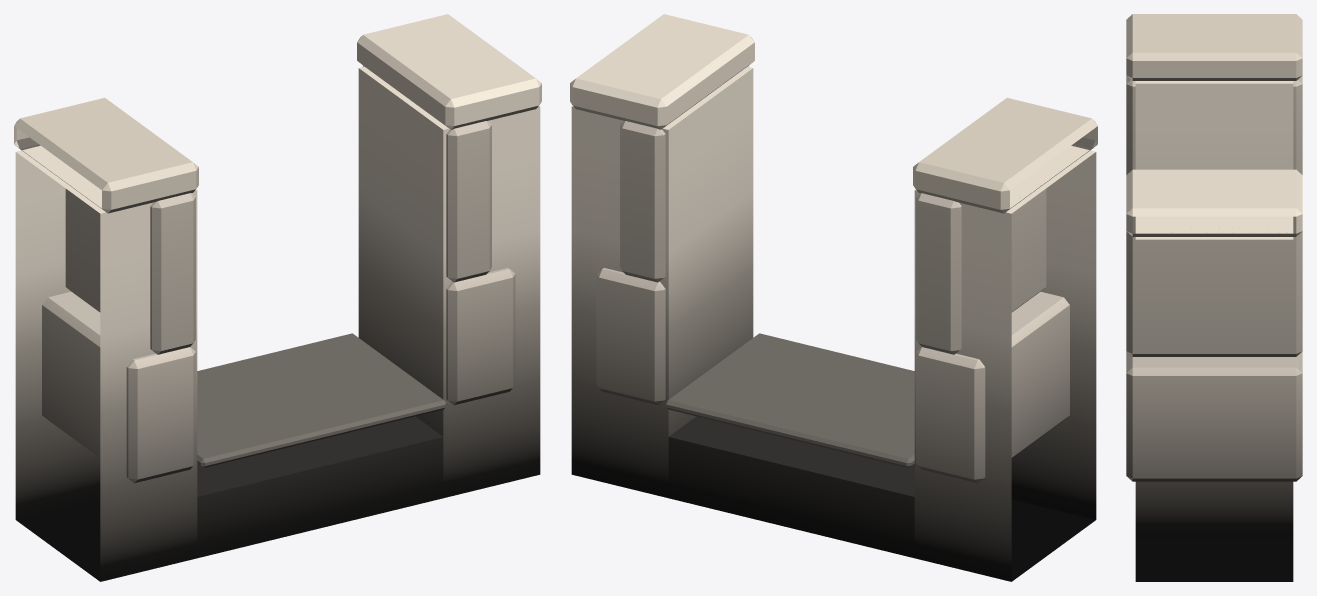
Rendered from SM_VKI_Wall_Stone_Door_150_Cut.fbx.
3 views of the same model, side by side, from view 1: azimuth 30°, elevation 25°; view 2: azimuth 150°, elevation 25°; view 3: azimuth 270°, elevation 25° (orthographic). The views are drawn at different scales.
Parts seen in each view (by area): view 1: SM_VKI_Wall_Stone_Door_150_Cut.001; view 2: SM_VKI_Wall_Stone_Door_150_Cut.001; view 3: SM_VKI_Wall_Stone_Door_150_Cut.001.
Part boxes in pixels (x1,y1,x2,y2): SM_VKI_Wall_Stone_Door_150_Cut.001: (14, 14, 541, 581); SM_VKI_Wall_Stone_Door_150_Cut.001: (570, 14, 1097, 581); SM_VKI_Wall_Stone_Door_150_Cut.001: (1126, 14, 1302, 581).
Bounding box in the file's own units: 1.5 × 1.3 × 0.56.
